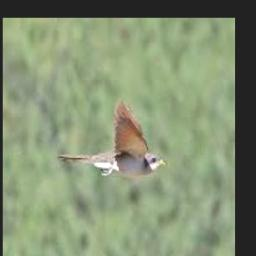Cuckoo: (58, 99, 166, 176)
